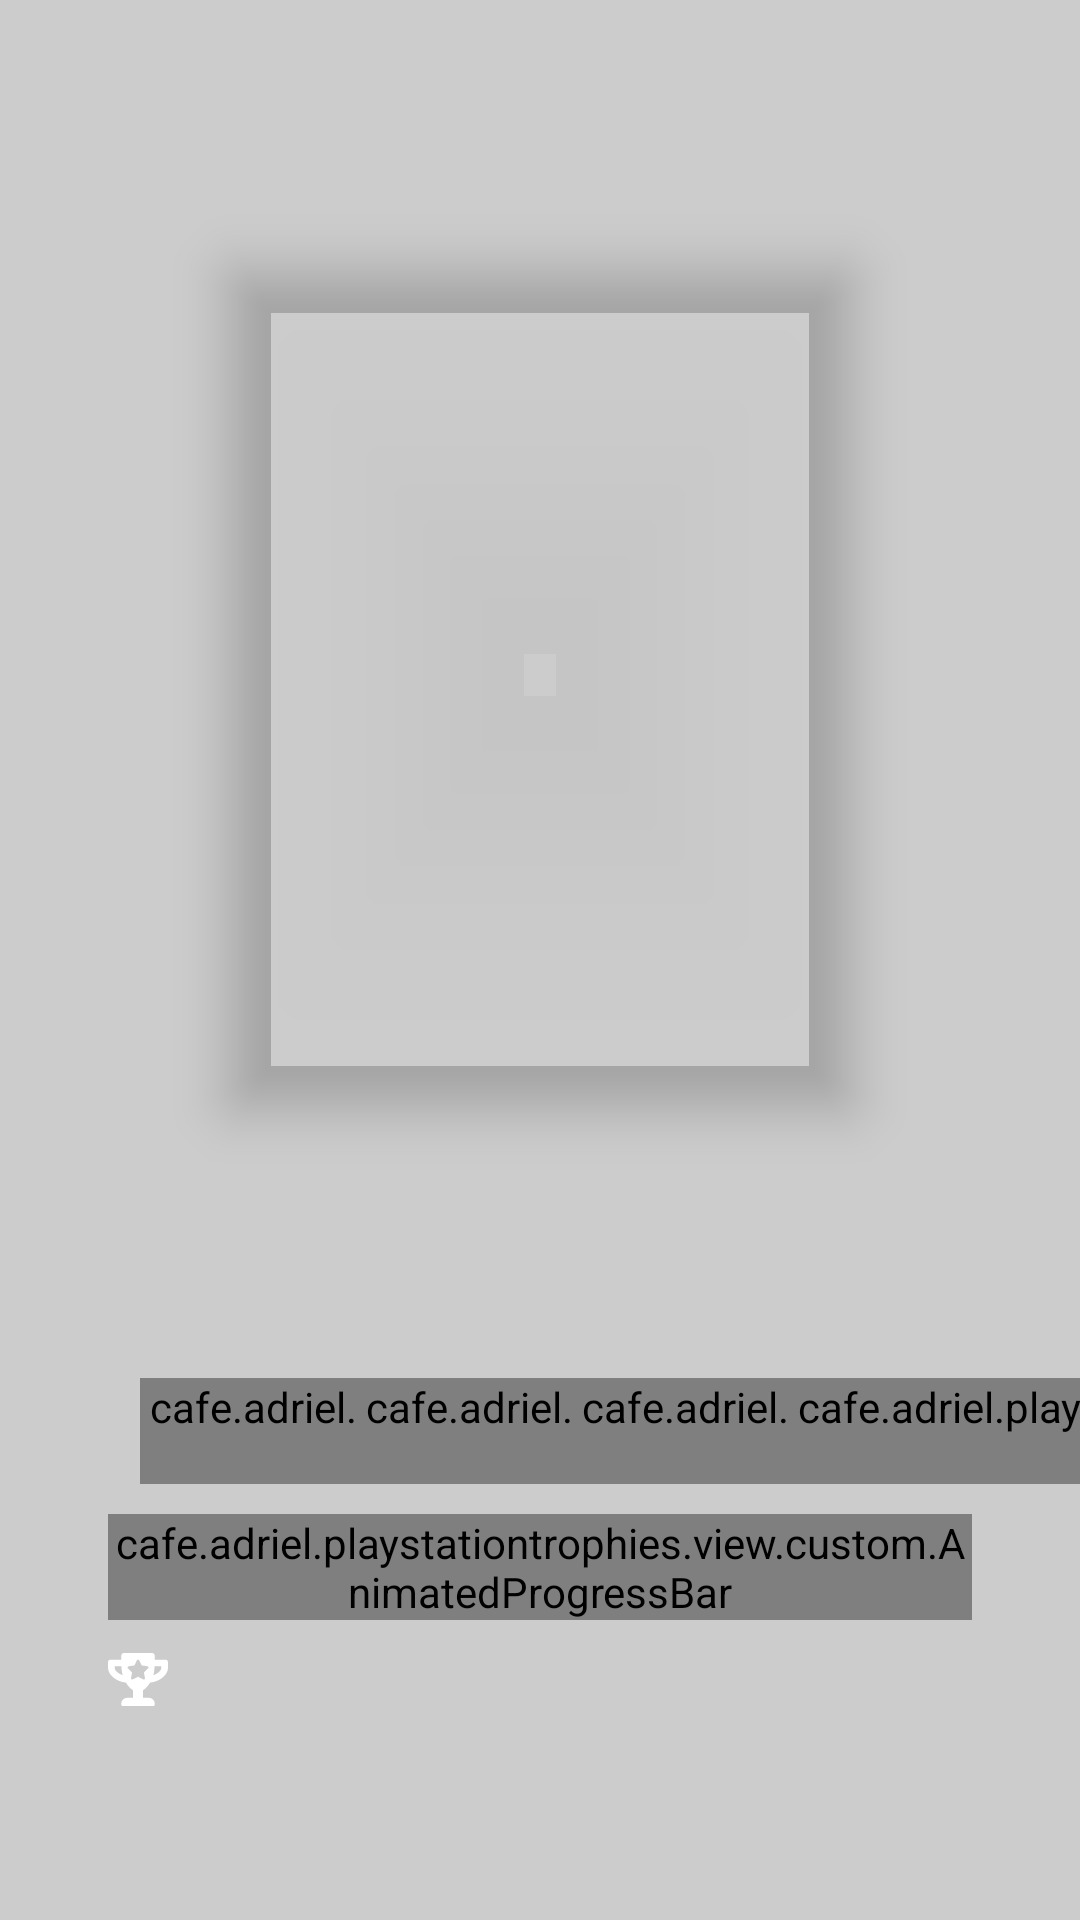

Where icons sit on this 1080px x 1920px app screen, as (left=x1, top=y1, right=x2, bottom=y2):
trophy star: (left=108, top=1653, right=168, bottom=1706)
